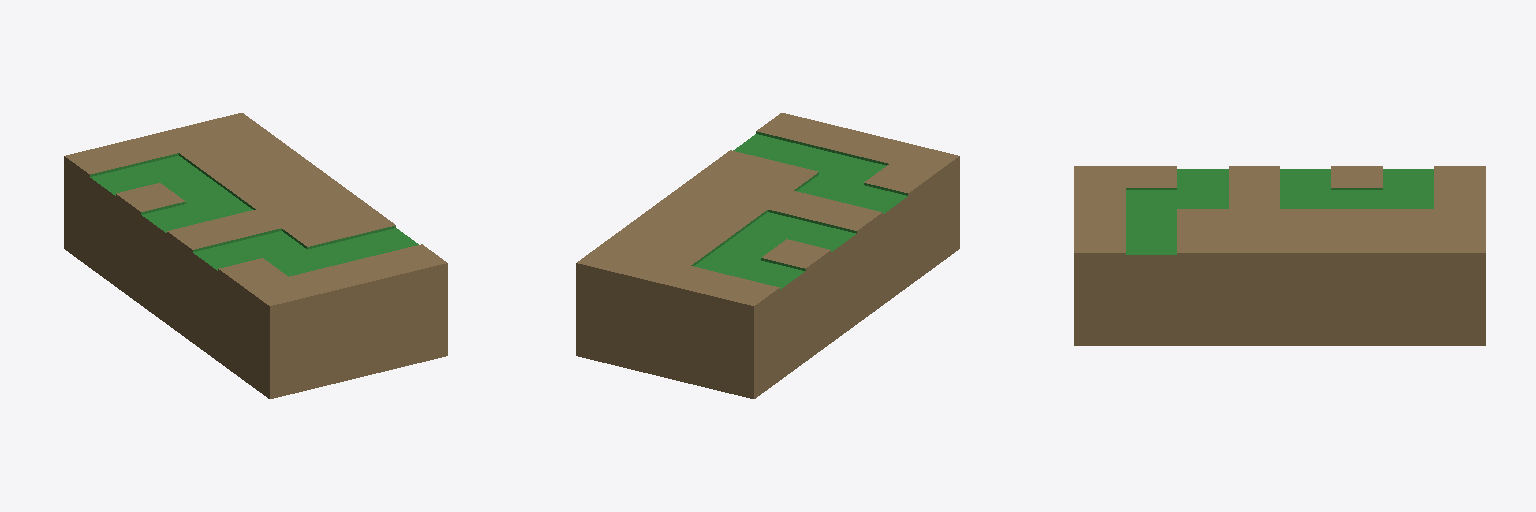
Rendered from Map2_1.obj.
The picture shows the model from 3 angles: view 1: azimuth 30°, elevation 25°; view 2: azimuth 150°, elevation 25°; view 3: azimuth 270°, elevation 25°; orthographic projection.
Visible parts, largest first — view 1: Map1&Map2_v12_Body19_0; view 2: Map1&Map2_v12_Body19_0; view 3: Map1&Map2_v12_Body19_0.
Part boxes in pixels (left/top/right/bottom): Map1&Map2_v12_Body19_0: left=64, top=113, right=447, bottom=398; Map1&Map2_v12_Body19_0: left=576, top=113, right=959, bottom=398; Map1&Map2_v12_Body19_0: left=1074, top=166, right=1485, bottom=345.
Bounding box in the file's own units: 36 × 18 × 72.